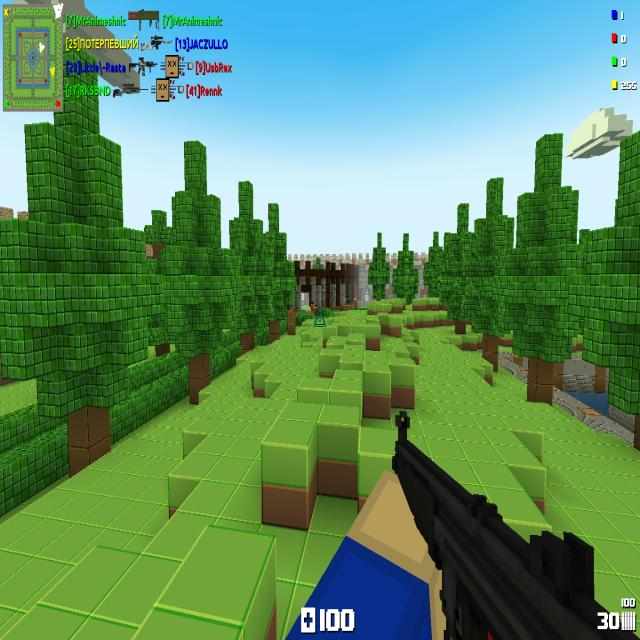enemy: (345, 293, 351, 305), (311, 301, 316, 311), (353, 298, 357, 308)
